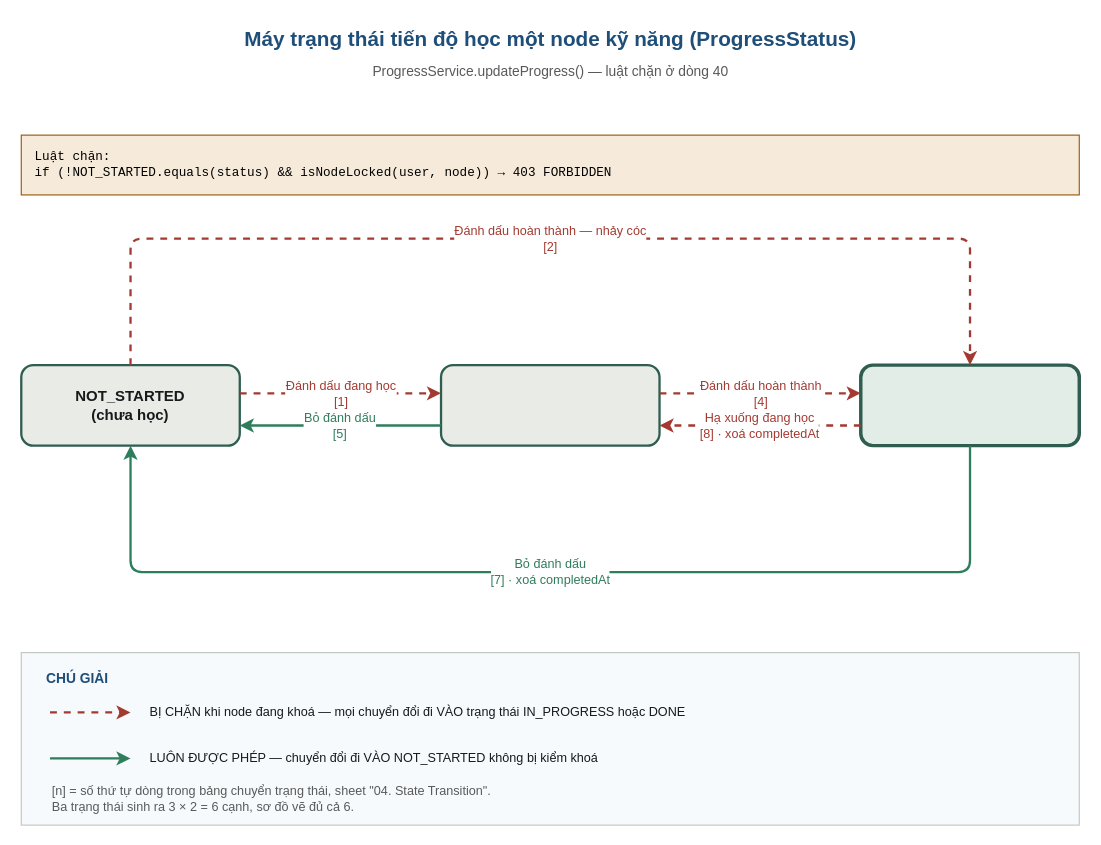
Image size: 1101x845. Some labels were removed from this diagram. The box of each missing label's shape, as (x1, y1, x2, y2) in pixels:
DONE (hoàn thành): (858, 363, 1080, 447)
IN_PROGRESS (đang học): (439, 363, 660, 446)
